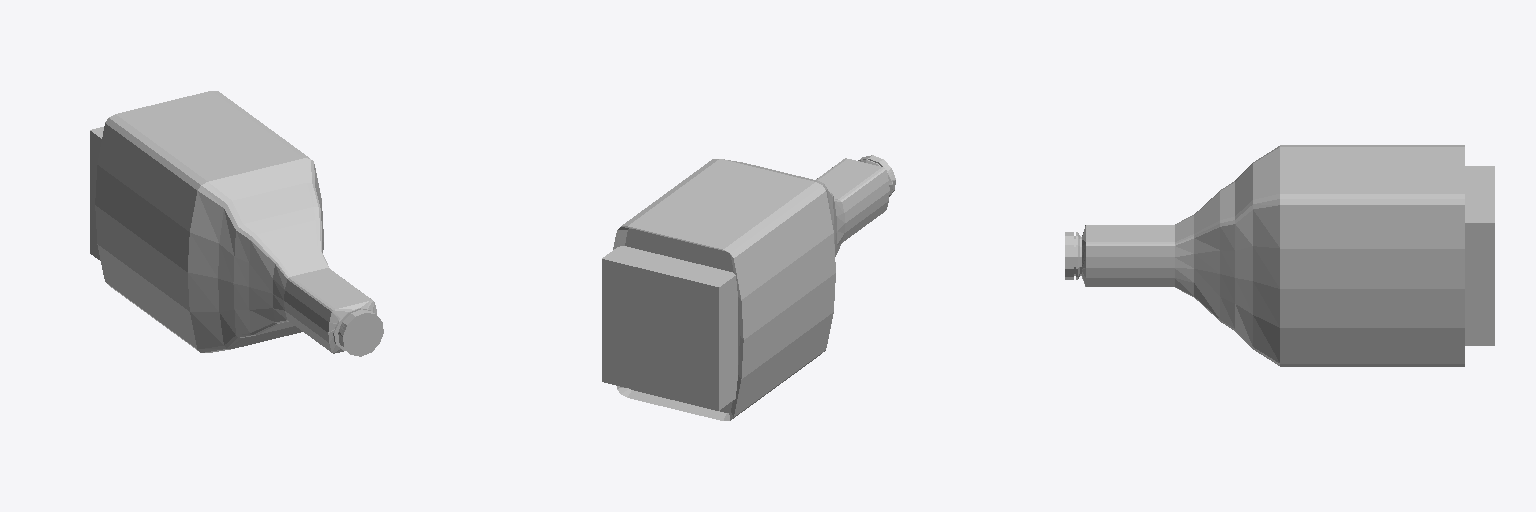
Rendered from kicha.obj.
3 views of the same model, side by side, from view 1: azimuth 30°, elevation 25°; view 2: azimuth 150°, elevation 25°; view 3: azimuth 270°, elevation 25° (orthographic).
Visible parts, largest first — view 1: Cube_Cube.001, Cube; view 2: Cube_Cube.001, Cube; view 3: Cube_Cube.001, Cube.
Part boxes in pixels (bbox=[...]): Cube_Cube.001: bbox=[95, 91, 383, 356]; Cube: bbox=[90, 127, 103, 260]; Cube_Cube.001: bbox=[613, 155, 895, 420]; Cube: bbox=[602, 246, 737, 410]; Cube_Cube.001: bbox=[1065, 145, 1464, 366]; Cube: bbox=[1465, 166, 1494, 345].
Bounding box in the file's own units: 2.32 × 2.79 × 6.33.